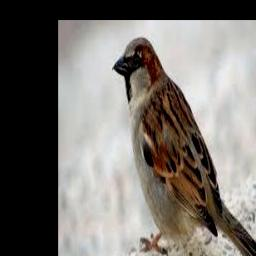Sparrow: (112, 38, 256, 256)
